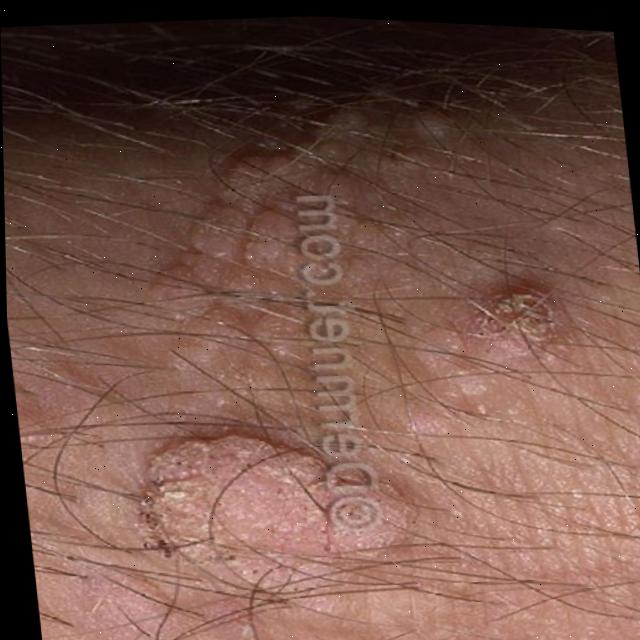Shingles: (158, 80, 574, 455), (136, 405, 429, 633)
